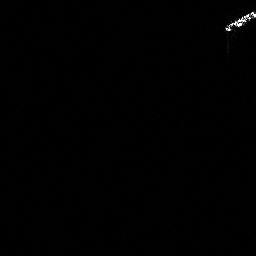ship: (221, 7, 256, 35)
